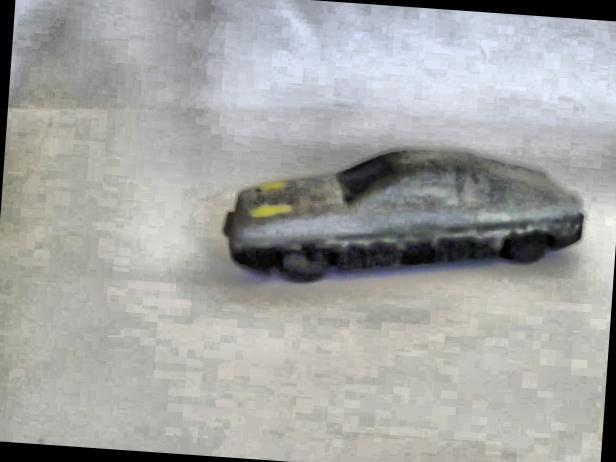normal_car: (216, 130, 591, 302)
